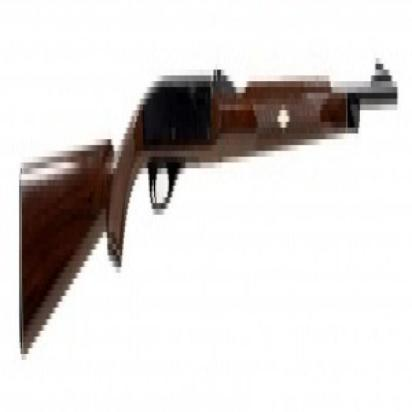Gun: (11, 37, 400, 378)
